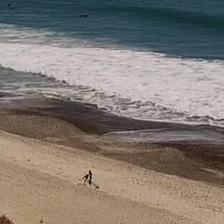surfer: (79, 14, 87, 17), (8, 4, 11, 8)
